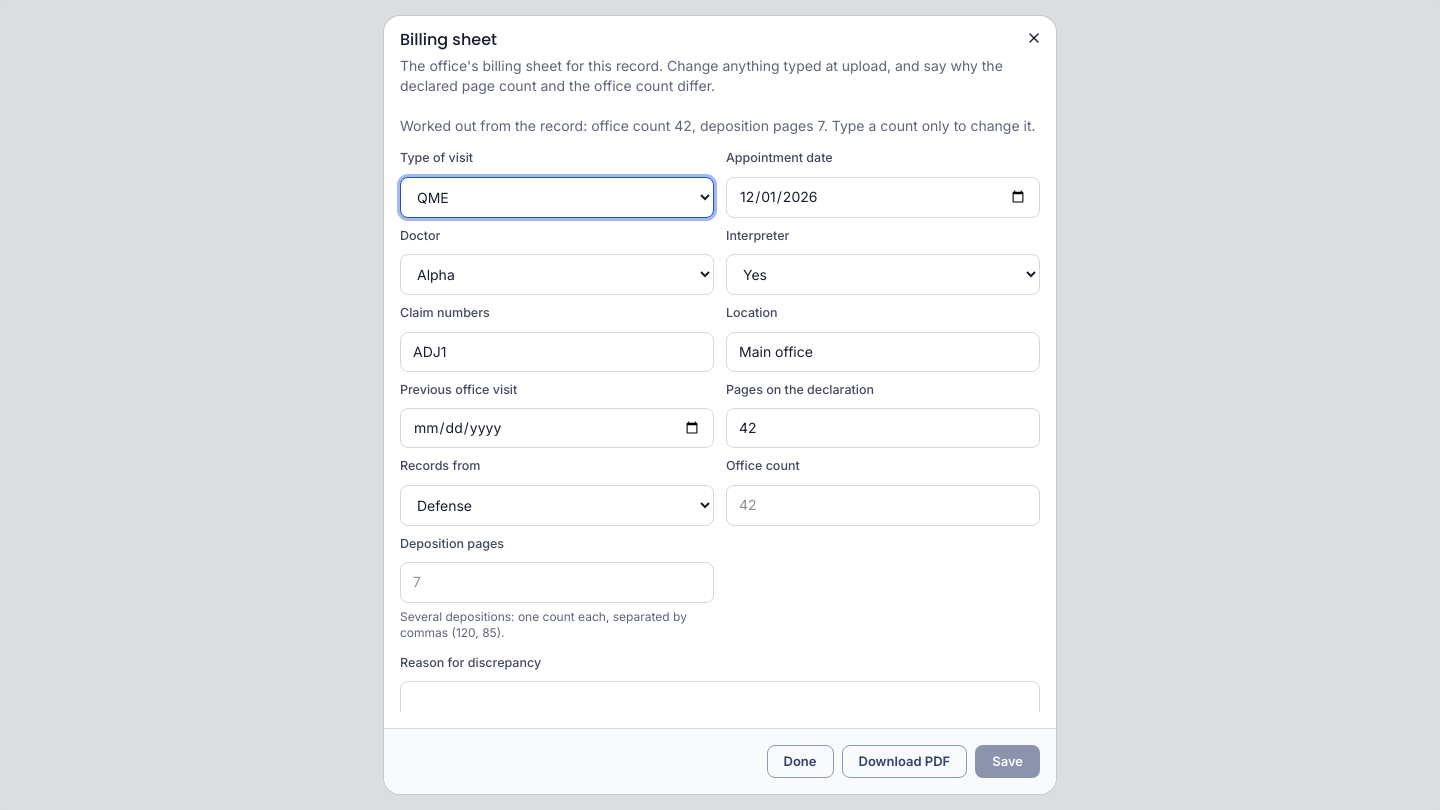
Test: BillingSheetDialog › asks for whole-number counts before it saves
The width and height of the screenshot is (1440, 810).
Type "many" into the field labelled "Office count" at (883, 506), box x1=726 y1=485 x2=1040 y2=526
(page scrolled)
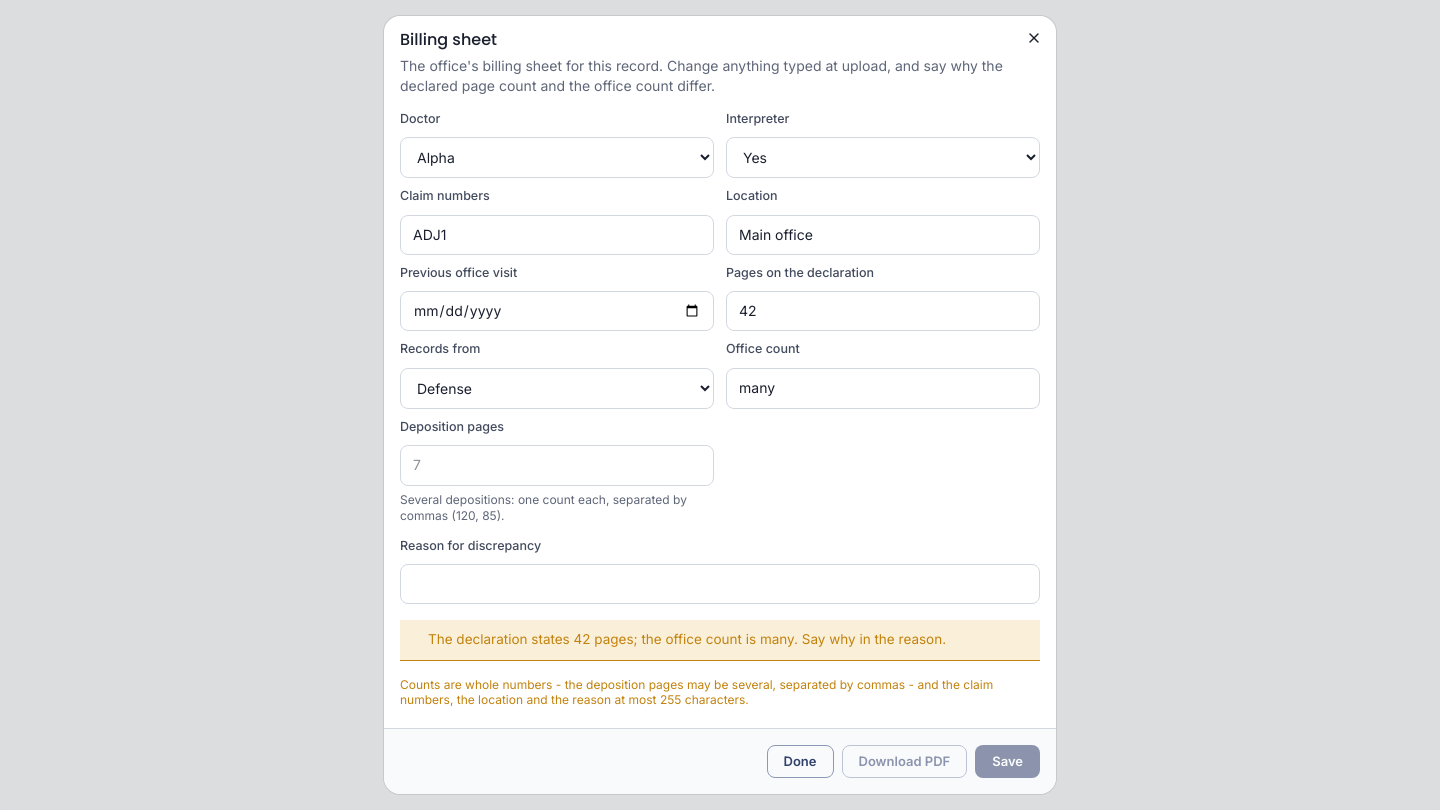
Expected: the button "Save" is disabled, x1=975 y1=745 x2=1040 y2=778
Expected: the text "Counts are whole numbers" is shown, x1=400 y1=676 x2=993 y2=707
